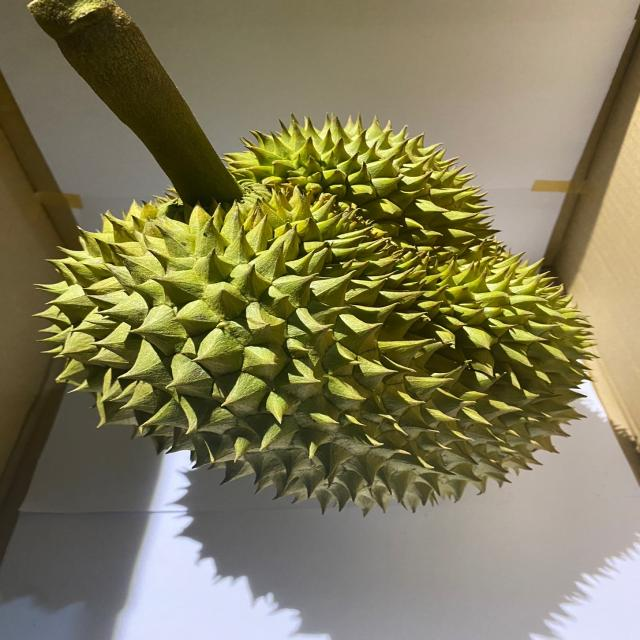immature: (34, 111, 603, 520)
